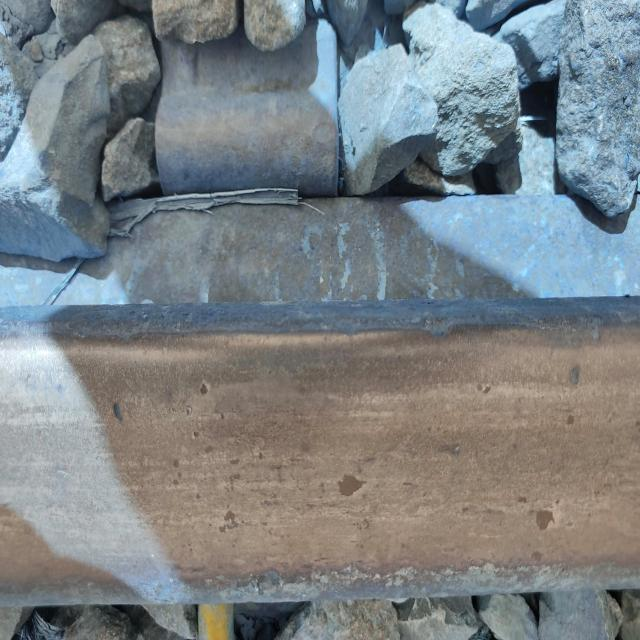Missing Fastener: (130, 3, 368, 213)
